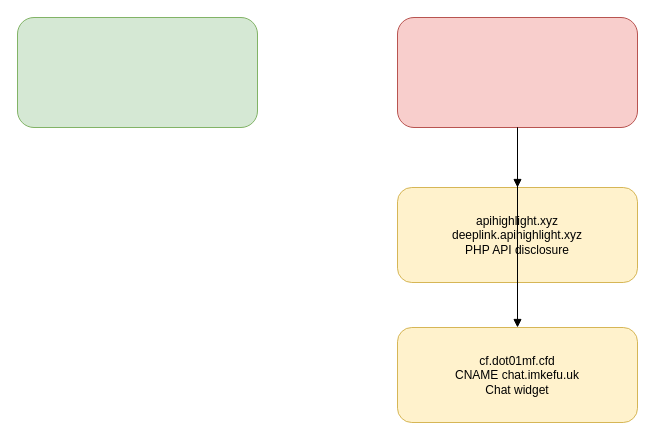
This 655x440 diagram has some shape labels left out. Here are the shapes that lost their labels. From the top down, the box of each, then its label:
(16, 16, 258, 128): highlight.xyz Sea Ranch Labs CloudFront / Next.js
(396, 16, 638, 128): highlight-global.xyz Dynadot Cloudflare / SPA
